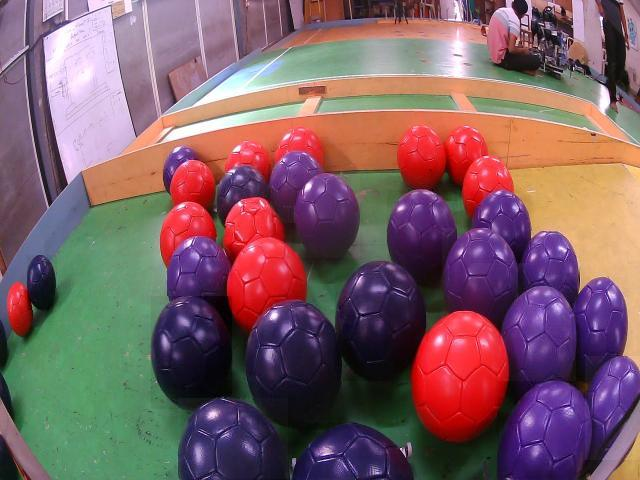jambhalya: (497, 382, 590, 479), (502, 286, 576, 399), (443, 228, 519, 327), (387, 190, 457, 283), (572, 277, 628, 382), (585, 356, 640, 460), (295, 174, 360, 258), (167, 237, 230, 312), (519, 231, 579, 306), (472, 190, 531, 263), (270, 150, 323, 223), (164, 145, 198, 193)
kaalyya: (247, 300, 342, 426), (336, 261, 427, 381), (152, 296, 232, 409), (178, 398, 288, 480), (293, 424, 414, 480), (217, 165, 270, 226), (27, 255, 57, 310)
